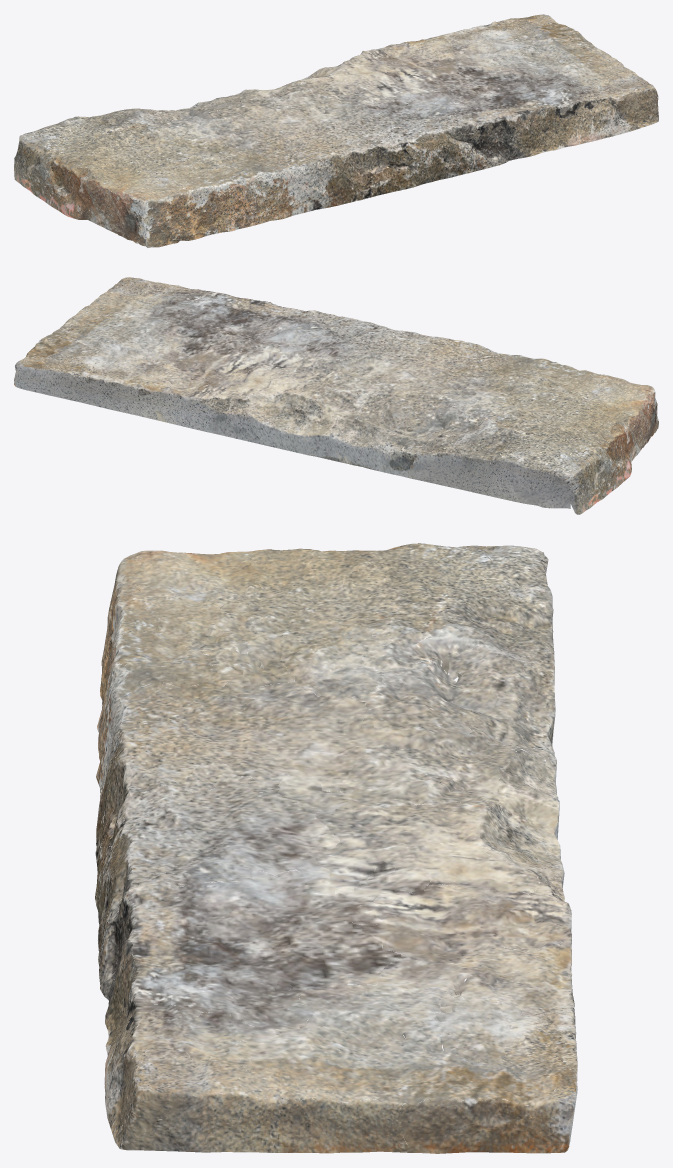
The model's file is Stepping_stones_2.glb.
3 renders of one model, top to bottom at view 1: azimuth 30°, elevation 25°; view 2: azimuth 150°, elevation 25°; view 3: azimuth 270°, elevation 25°, orthographic. The views are drawn at different scales.
Parts seen in each view (by area): view 1: Object_2; view 2: Object_2; view 3: Object_2.
Boxes of the visible parts, x1,y1,x2,y2 form: Object_2: (14,14,658,247); Object_2: (14,277,658,514); Object_2: (95,543,577,1153).
Bounding box in the file's own units: 1.6 × 0.1334 × 0.6093.
1 material, 1 textured.
